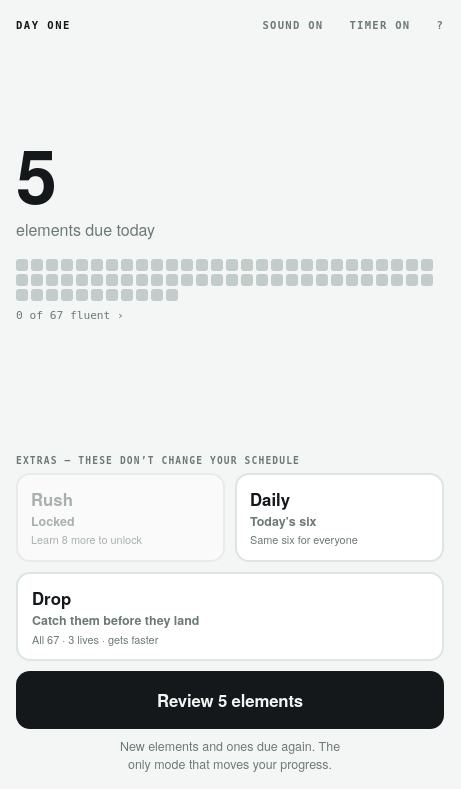
Test case: Drop › spends a life on a wrong tap
The image size is (461, 789).
Click the button "Drop": (52, 598) [16,572,444,661]
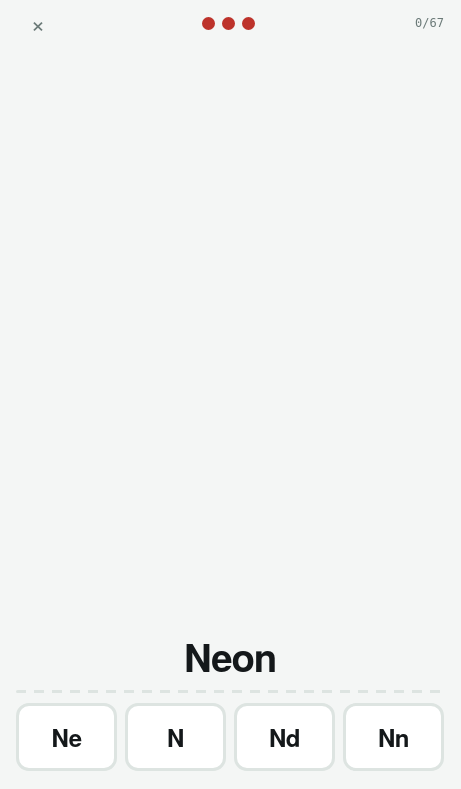
Click the button "N": (176, 737) [125,703,226,771]
Wait 1060 ms
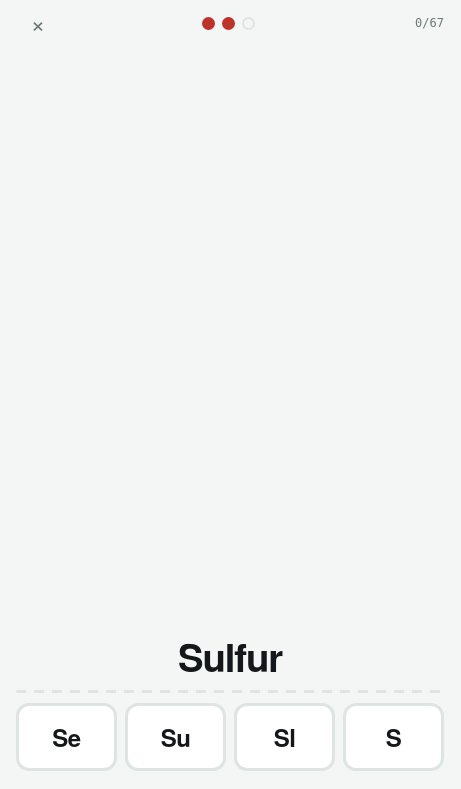
Now the text "0/67" is shown, box [415,16,444,30]
Now the element named "2 lives left" is shown, box [202,16,254,30]
